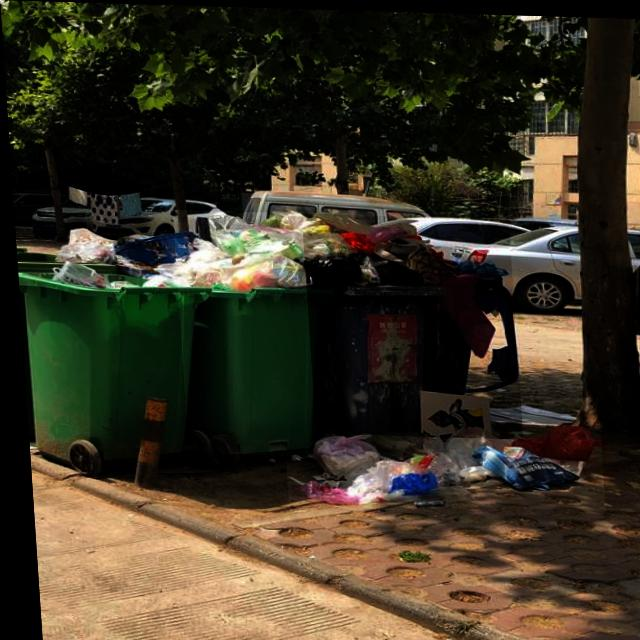garbage: (276, 387, 599, 507)
overflow: (299, 212, 517, 436), (12, 226, 212, 467), (170, 209, 341, 455)
